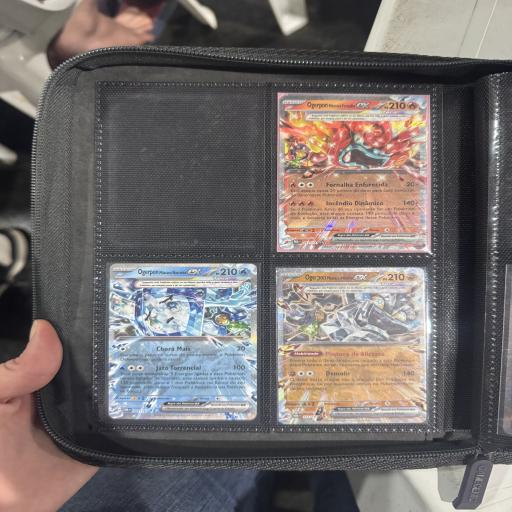card: (276, 268, 427, 424), (278, 93, 428, 250), (109, 263, 258, 420)
